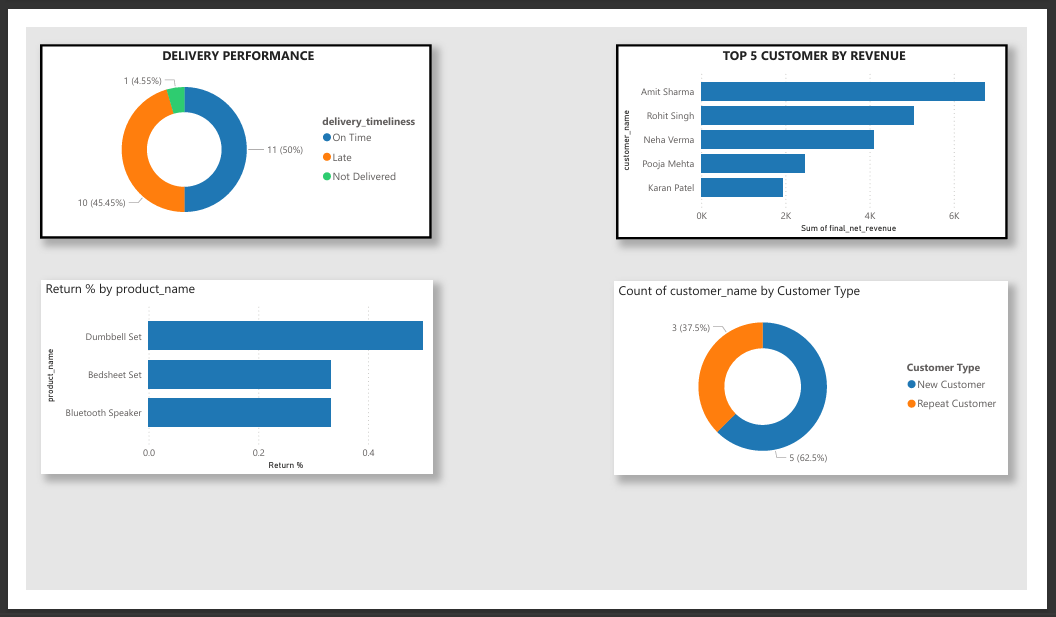

Layout of this report page (visuals, bound fields, positions):
{"tool":"powerbi","page":{"name":"Page 2","canvas":[1280,720],"ordinal":1},"visuals":[{"type":"donutChart","title":"DELIVERY PERFORMANCE","fields":{"Category":["final_sales_data.delivery_timeliness"],"Y":["CountNonNull(final_sales_data.order_id)"]},"box":[17,20.8,500.8,249.5],"z":0},{"type":"clusteredBarChart","title":"TOP 5 CUSTOMER BY REVENUE","fields":{"Category":["final_sales_data.customer_name"],"Y":["Sum(final_sales_data.final_net_revenue)"]},"box":[754,20.8,500.8,250],"z":1},{"type":"clusteredBarChart","fields":{"Category":["final_sales_data.product_name"],"Y":["final_sales_data.Return %"]},"box":[18.9,323.2,500.8,247.6],"z":2},{"type":"donutChart","fields":{"Category":["final_sales_data.Customer Type"],"Y":["Count(final_sales_data.customer_name)"]},"box":[752.1,325,502.7,247.6],"z":3}]}

Visuals, with their boxes on the page's 1280x720 design canvas (x1, y1, x2, y2). These are canvas units, not pixel positions in the 1056x617 screenshot, which may show the page scaled, cropped or inside an application window:
"DELIVERY PERFORMANCE" donutChart: 17, 21, 518, 270
"TOP 5 CUSTOMER BY REVENUE" clusteredBarChart: 754, 21, 1255, 271
clusteredBarChart - final_sales_data.product_name x final_sales_data.Return %: 19, 323, 520, 571
donutChart - final_sales_data.Customer Type x Count(final_sales_data.customer_name): 752, 325, 1255, 573
